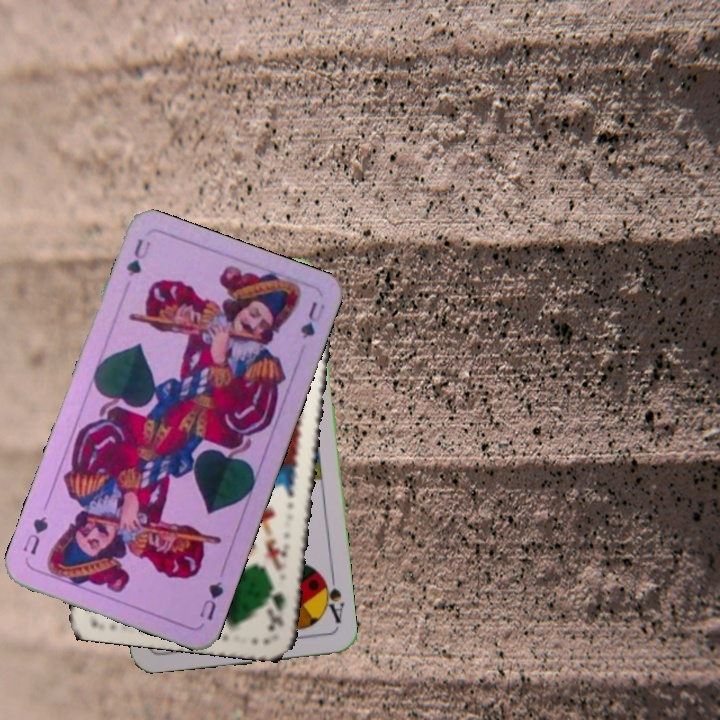GK: (263, 576, 288, 634)
GU: (122, 234, 154, 279), (195, 577, 226, 623)
SA: (316, 570, 347, 626)
